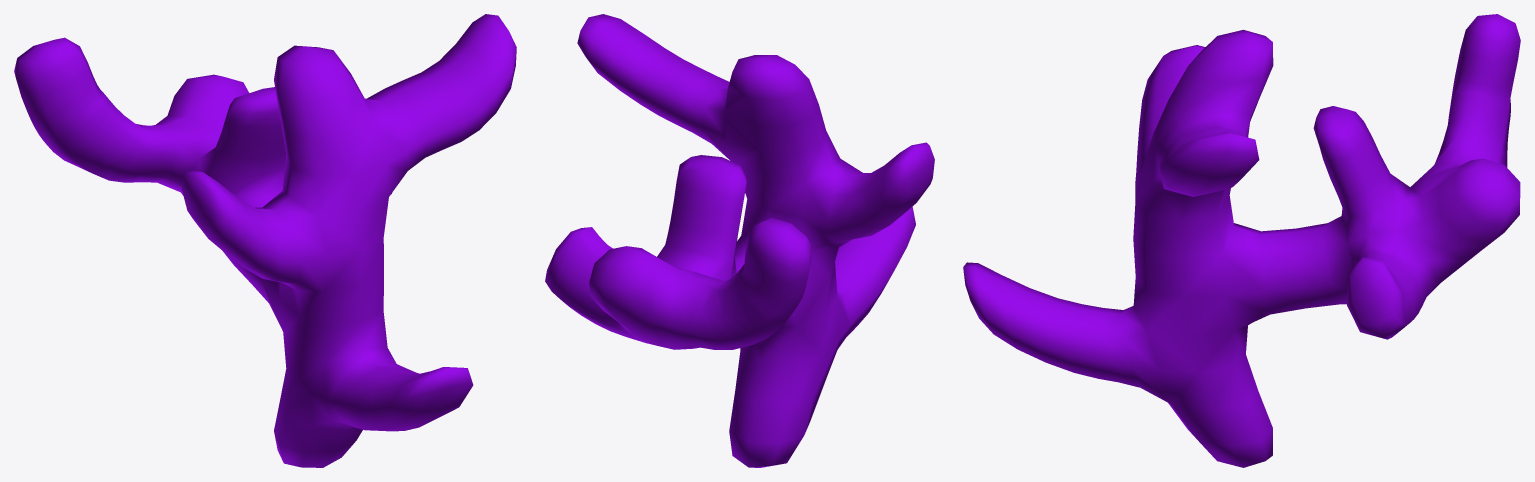
File: sea_plants_corall_downsized.glb
3 renders of one model, left to right at view 1: azimuth 30°, elevation 25°; view 2: azimuth 150°, elevation 25°; view 3: azimuth 270°, elevation 25°, orthographic. The views are drawn at different scales.
Visible parts, largest first — view 1: Cube; view 2: Cube; view 3: Cube.
Part boxes in pixels (<box>): Cube: <box>14,14,516,467</box>; Cube: <box>545,14,934,467</box>; Cube: <box>963,14,1520,467</box>.
Bounding box in the file's own units: 8.84 × 9.83 × 11.52.
